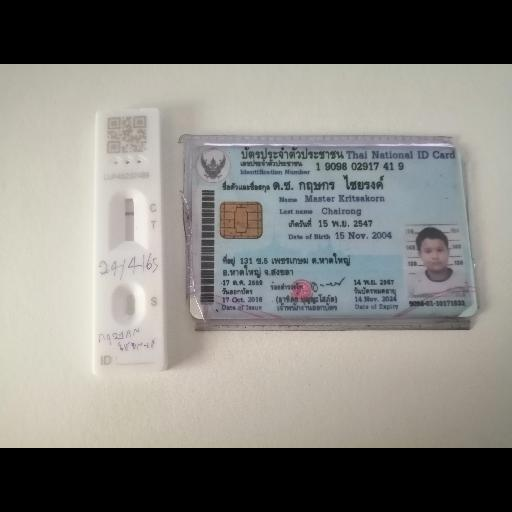Neg: (96, 108, 162, 372)
